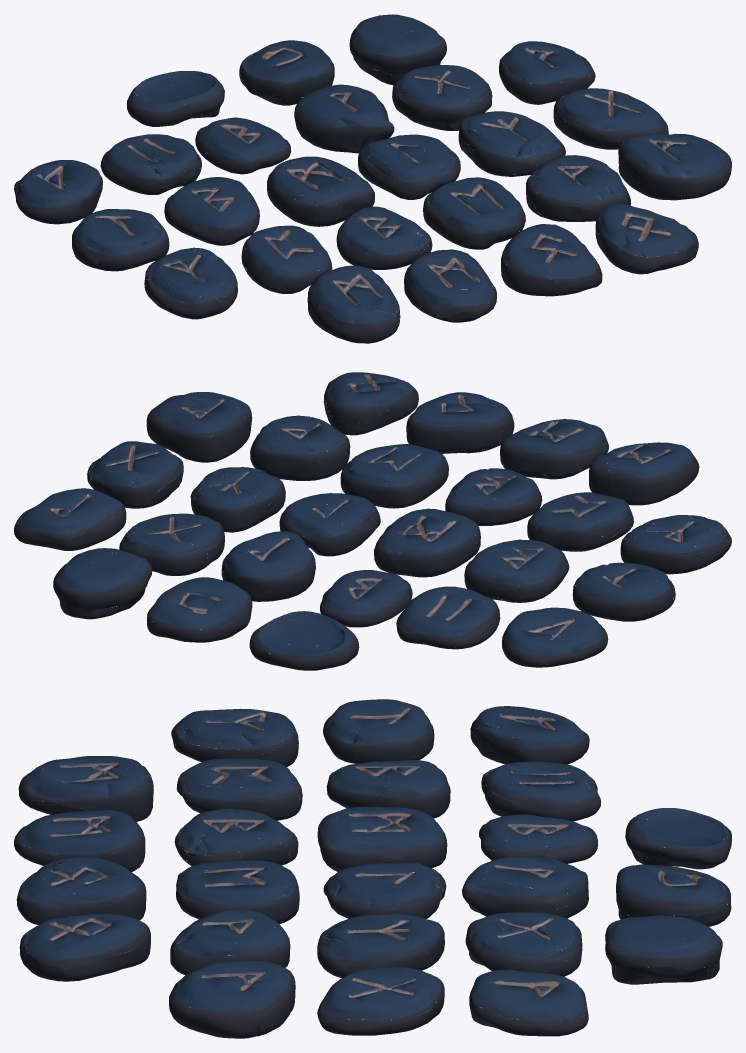
File: runas-de-obsidiana.glb
3 renders of one model, top to bottom at view 1: azimuth 30°, elevation 25°; view 2: azimuth 150°, elevation 25°; view 3: azimuth 270°, elevation 25°, orthographic. The views are drawn at different scales.
Visible parts, largest first — view 1: tripo_node_9565d944-0e0f-478a-a151-a29224d9cfa5; view 2: tripo_node_9565d944-0e0f-478a-a151-a29224d9cfa5; view 3: tripo_node_9565d944-0e0f-478a-a151-a29224d9cfa5.
Boxes of the visible parts, box(x1,y1,x2,y2) form: tripo_node_9565d944-0e0f-478a-a151-a29224d9cfa5: box(14, 14, 731, 343); tripo_node_9565d944-0e0f-478a-a151-a29224d9cfa5: box(14, 372, 731, 670); tripo_node_9565d944-0e0f-478a-a151-a29224d9cfa5: box(14, 699, 731, 1038).
Size of the model in its own units: 0.9798 by 0.0629 by 0.9264.
Materials: 1 (1 with a texture image).
